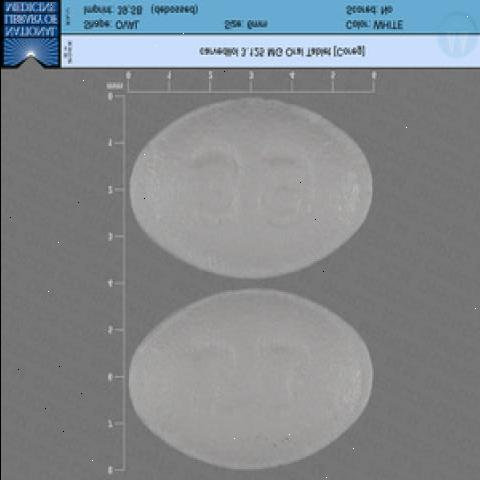Pill: (96, 87, 390, 283), (111, 279, 381, 480)
